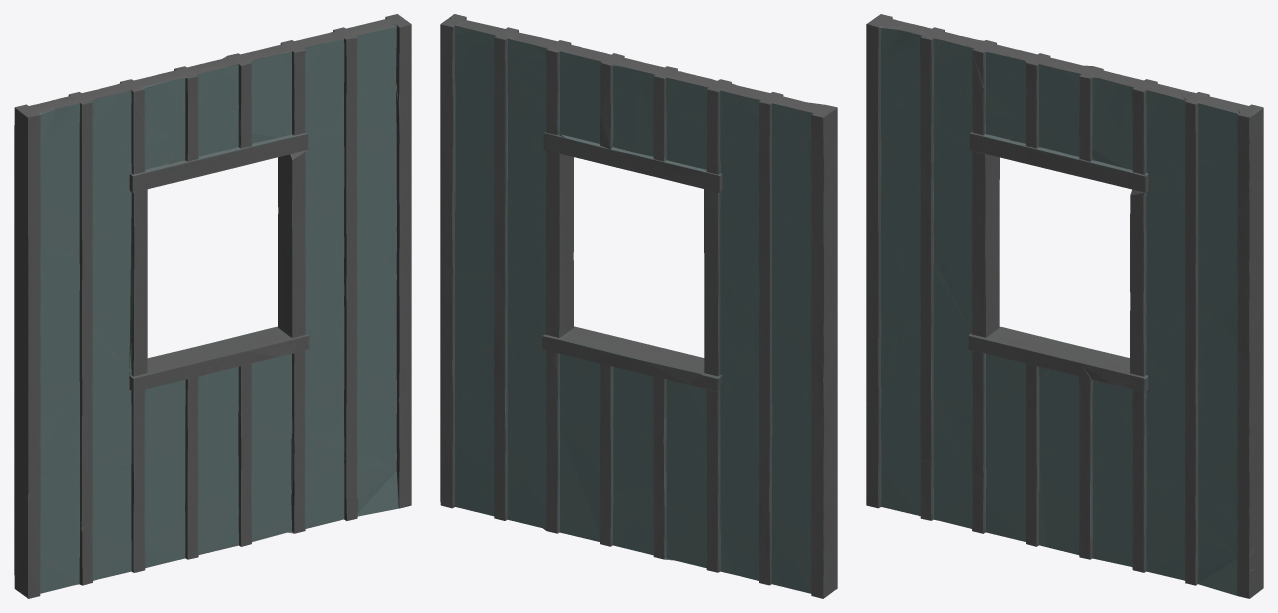
The model's file is windowFrame.glb.
3 renders of one model, left to right at view 1: azimuth 30°, elevation 25°; view 2: azimuth 150°, elevation 25°; view 3: azimuth 330°, elevation 25°, orthographic.
Parts seen in each view (by area): view 1: Mesh_0; view 2: Mesh_0; view 3: Mesh_0.
Part boxes in pixels (x1,y1,x2,y2): Mesh_0: [14, 14, 411, 598]; Mesh_0: [440, 14, 837, 598]; Mesh_0: [866, 14, 1263, 598].
Bounding box in the file's own units: 2 × 2.4 × 0.16.
Materials: 1 (1 with a texture image).
